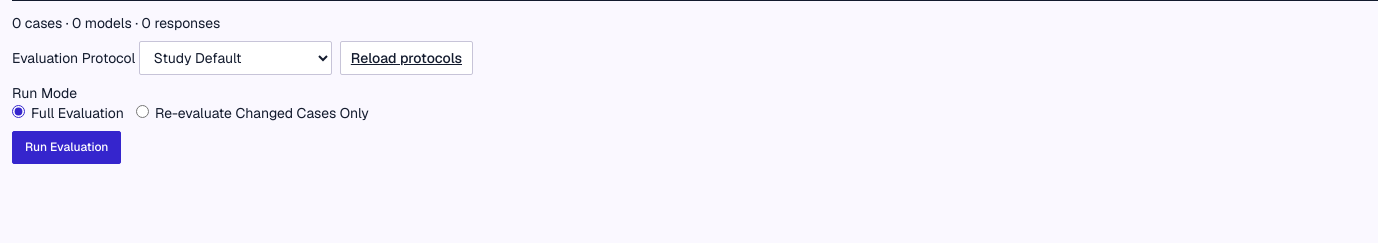
Test case: unavailable baseline leaves full mode available
This screenshot has width=1378, height=243.
Click the radio button labelled "Re-evaluate Changed Cases Only".
click(142, 112)  # box x1=136 y1=105 x2=149 y2=118
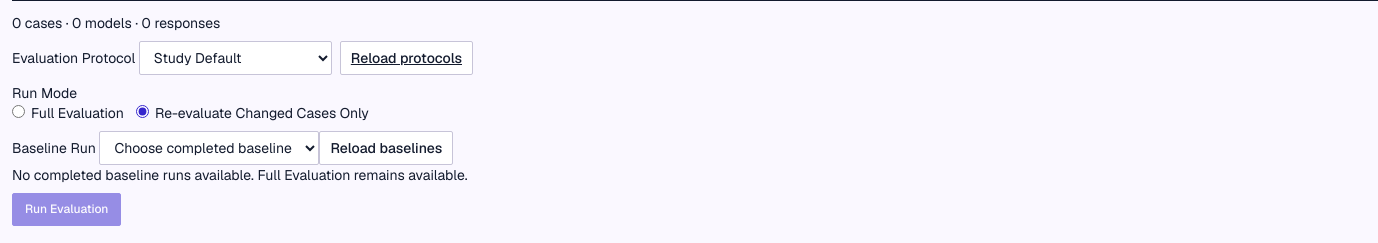
Expected: the text "No completed baseline runs" is shown, x1=12 y1=166 x2=468 y2=184
Click the radio button labelled "Full Evaluation".
click(18, 112)  # box x1=12 y1=105 x2=25 y2=118
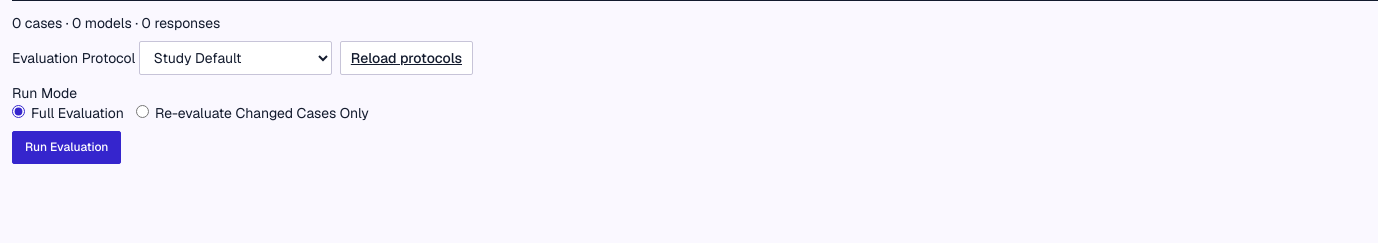
Expected: the label labelled "Baseline Run" is gone
